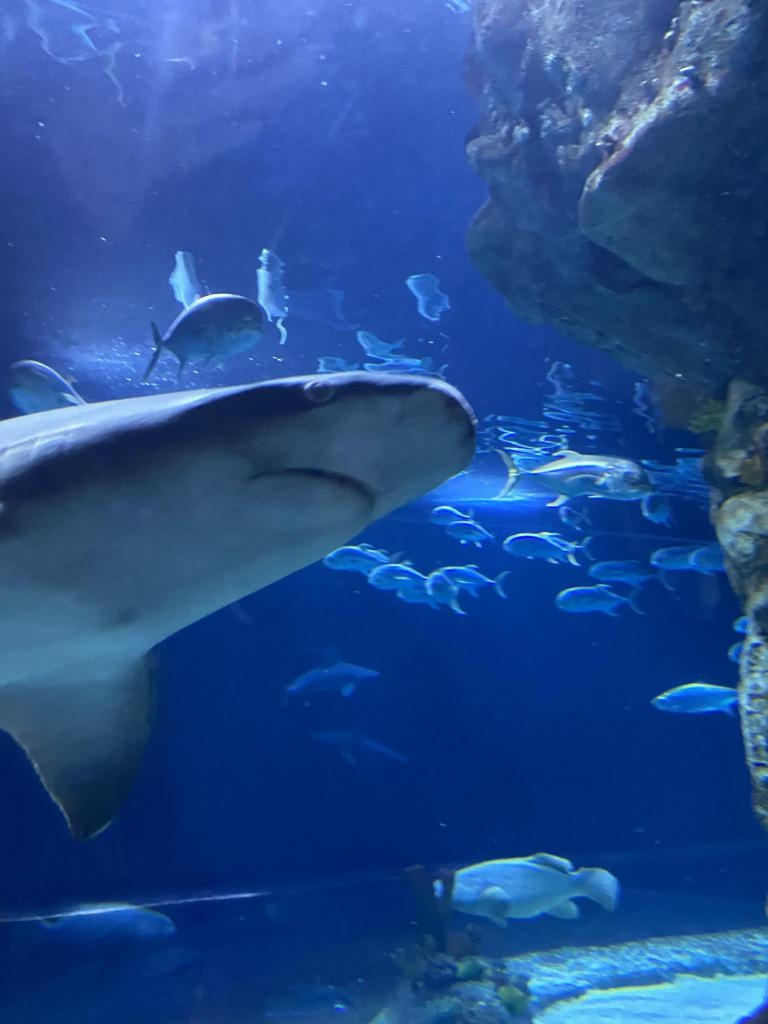fish: (433, 854, 617, 930), (17, 900, 178, 970), (144, 288, 262, 382), (494, 448, 654, 510), (2, 358, 85, 416), (652, 682, 738, 722), (556, 584, 646, 618), (590, 560, 676, 592), (434, 564, 510, 600), (505, 533, 581, 565), (323, 544, 405, 570), (427, 571, 469, 615), (368, 561, 426, 591), (541, 532, 594, 562), (445, 520, 497, 548), (643, 492, 677, 528), (650, 544, 694, 570), (688, 546, 728, 572), (429, 506, 475, 528), (558, 506, 592, 530)
shark: (1, 363, 475, 843), (280, 646, 384, 708), (305, 725, 411, 769)
